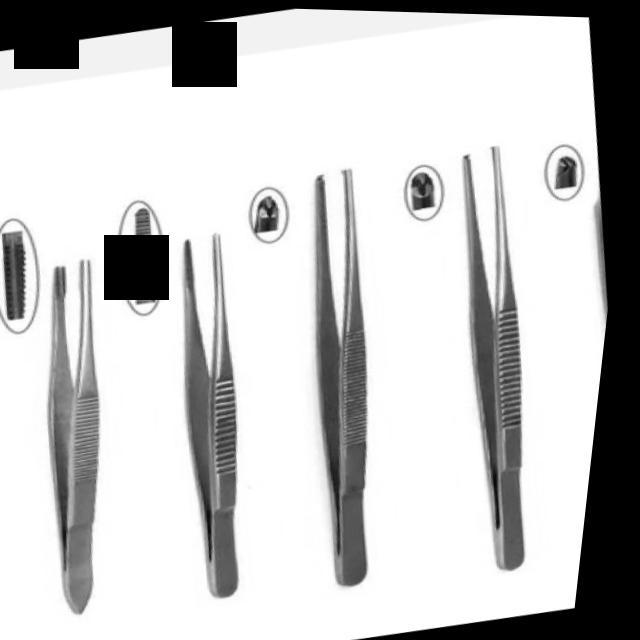Disscting Forceps -Plain-: (144, 227, 308, 608)
Disscting Forceps -tooth-: (258, 160, 452, 598), (417, 137, 597, 580), (11, 250, 172, 621)
